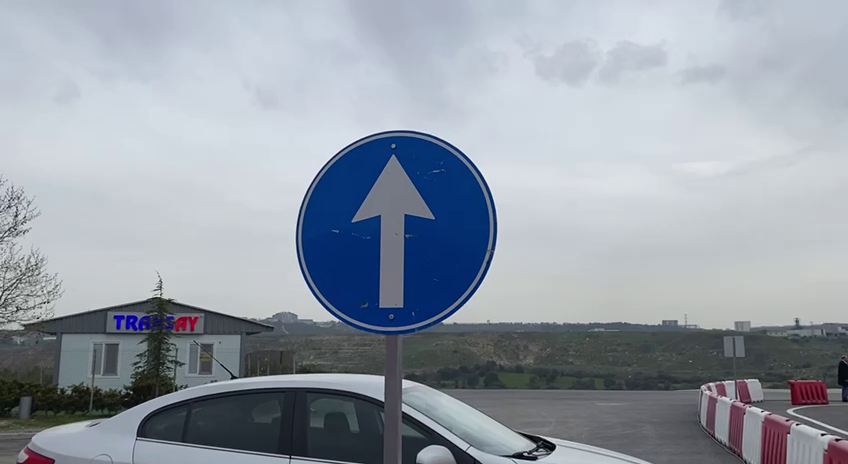forward: (290, 124, 507, 341)
